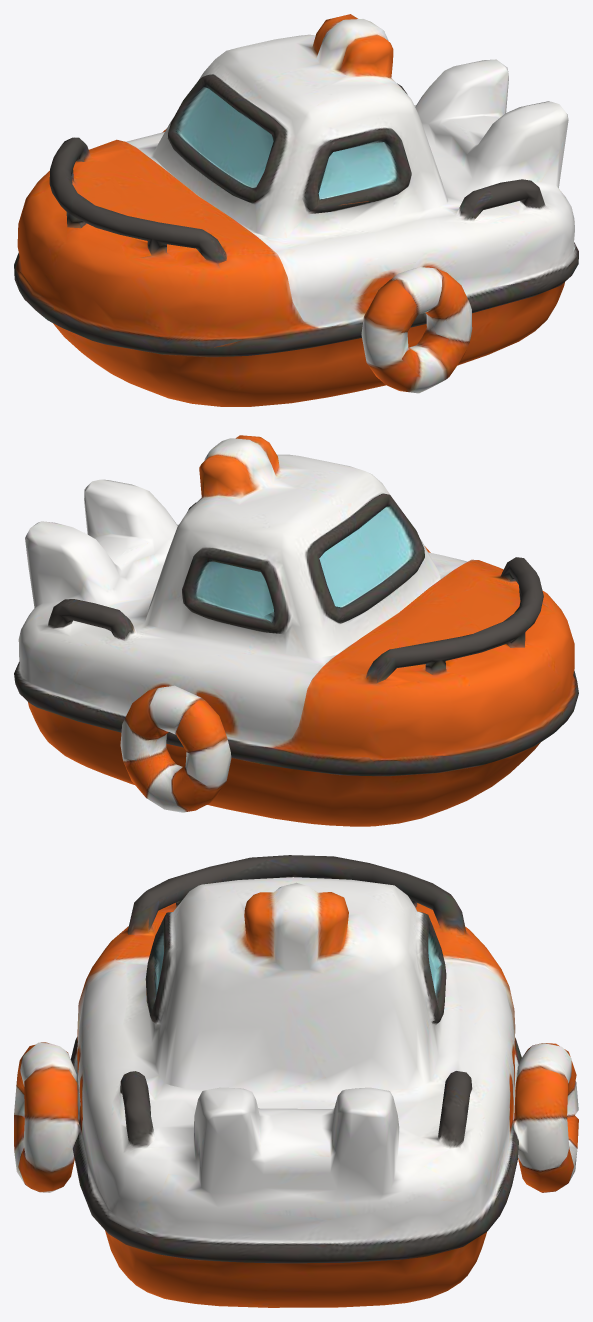
File: lancha.glb
3 renders of one model, top to bottom at view 1: azimuth 30°, elevation 25°; view 2: azimuth 150°, elevation 25°; view 3: azimuth 270°, elevation 25°, orthographic. The views are drawn at different scales.
Parts seen in each view (by area): view 1: tripo_node_7228c163-8de2-4d3a-a776-d63292c8c6db; view 2: tripo_node_7228c163-8de2-4d3a-a776-d63292c8c6db; view 3: tripo_node_7228c163-8de2-4d3a-a776-d63292c8c6db.
Boxes of the visible parts, x1,y1,x2,y2 form: tripo_node_7228c163-8de2-4d3a-a776-d63292c8c6db: (14, 14, 578, 406); tripo_node_7228c163-8de2-4d3a-a776-d63292c8c6db: (14, 435, 578, 826); tripo_node_7228c163-8de2-4d3a-a776-d63292c8c6db: (14, 855, 578, 1307).
Size of the model in its own units: 0.9794 by 0.5817 by 0.8323.
Materials: 1 (1 with a texture image).
